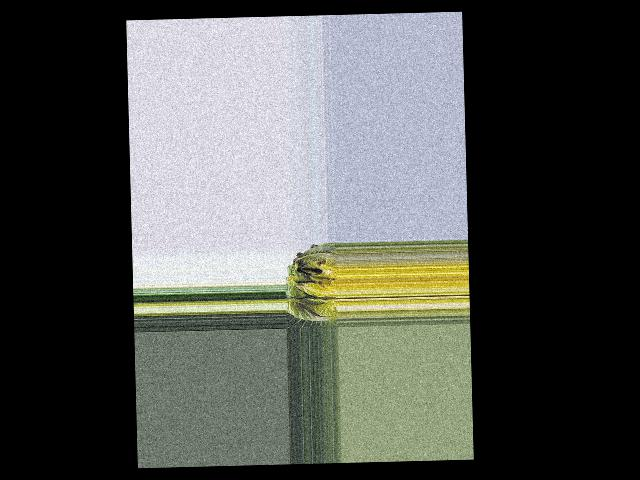lettuce: (286, 245, 339, 328)
